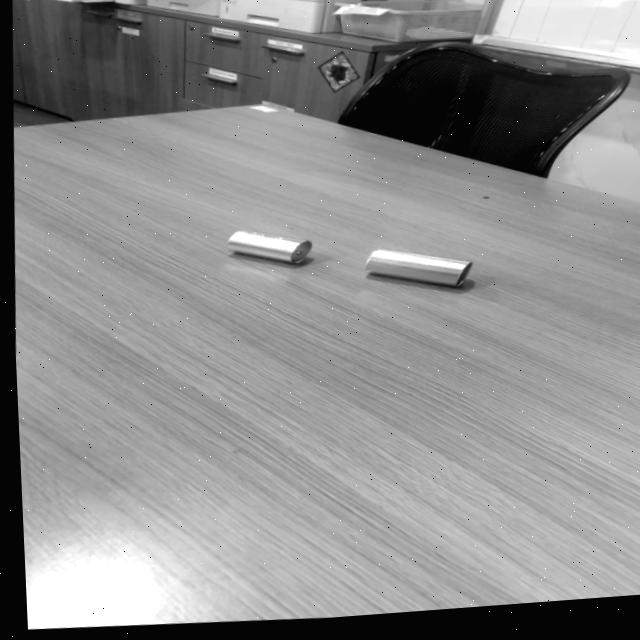Co_Lon: (363, 245, 471, 289)
Co_Nho: (224, 226, 311, 266)
